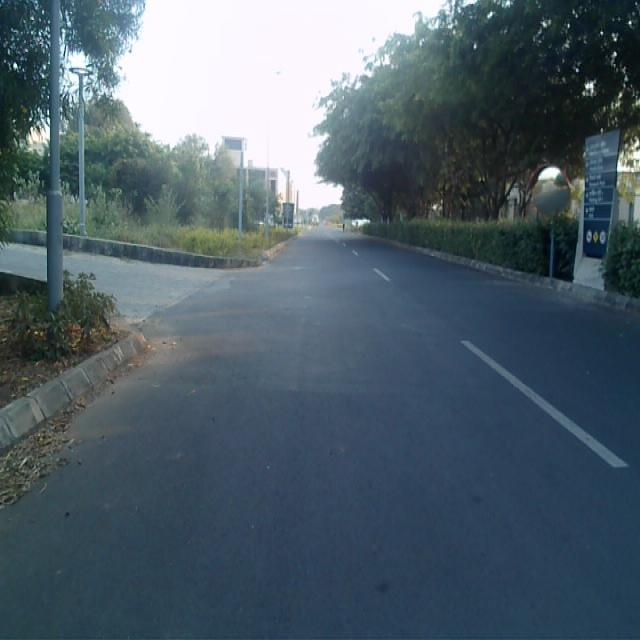lane: (0, 235, 640, 640)
